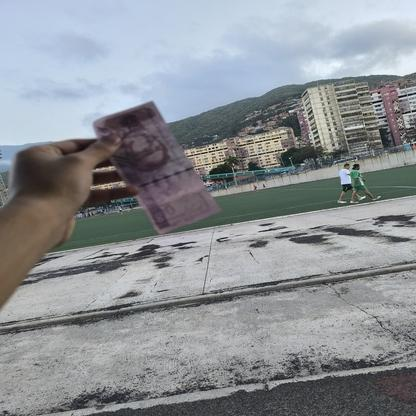one_hundred-back-vef: (92, 99, 222, 234)
